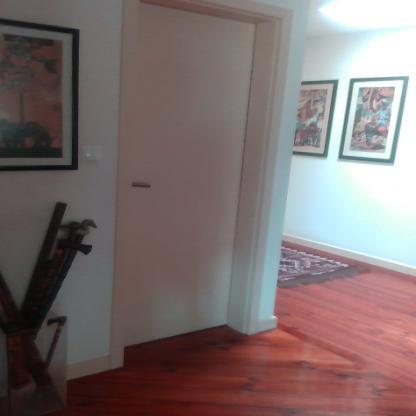door: (132, 1, 238, 345)
lever: (132, 181, 154, 190)
